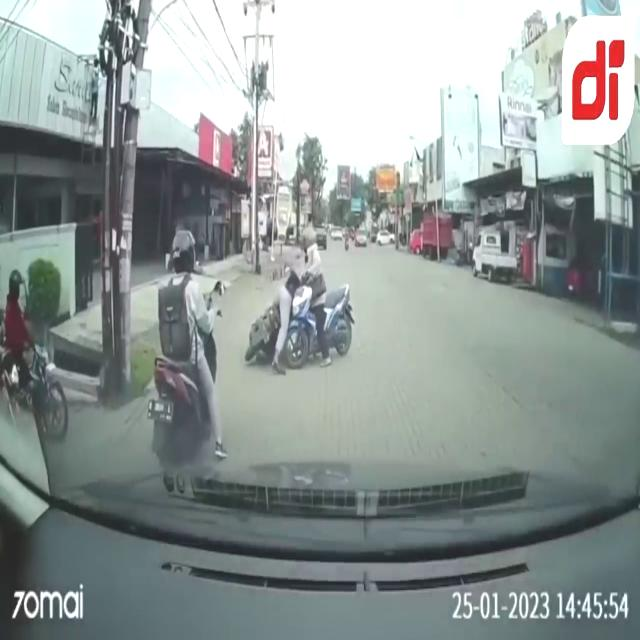accident: (243, 224, 354, 378)
